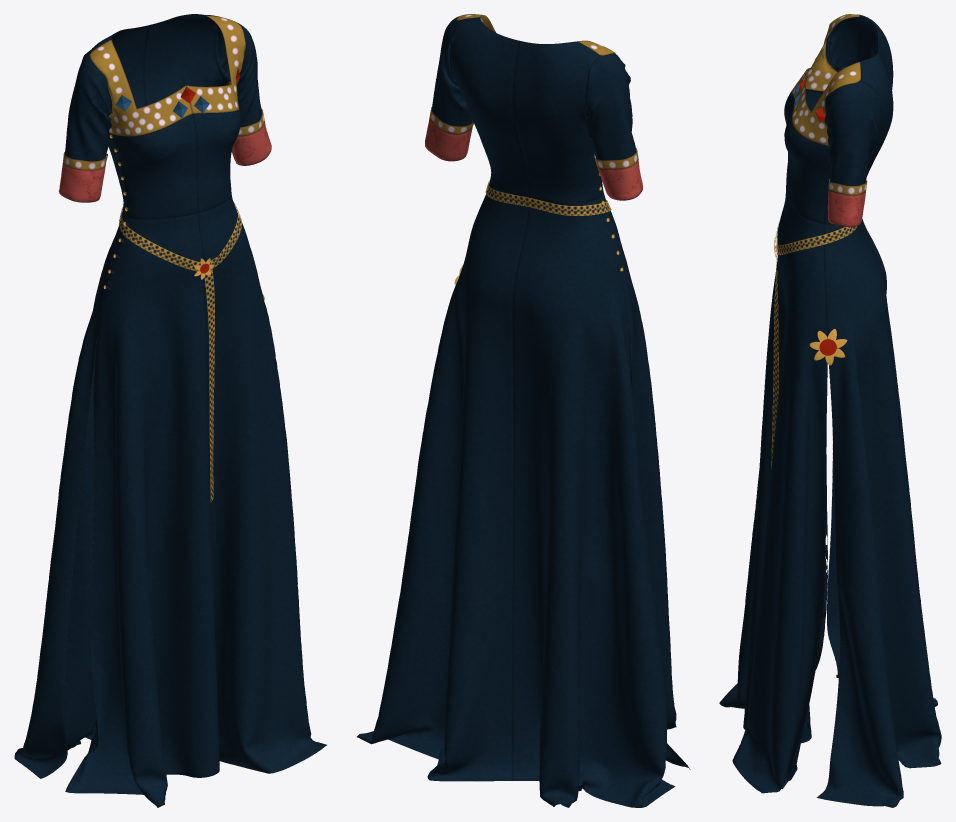
Rendered from black_blue_dres.glb.
3 renders of one model, left to right at view 1: azimuth 30°, elevation 25°; view 2: azimuth 150°, elevation 25°; view 3: azimuth 270°, elevation 25°, orthographic. The views are drawn at different scales.
Visible parts, largest first — view 1: defaultMaterial (×3); view 2: defaultMaterial (×2); view 3: defaultMaterial (×3).
Boxes of the visible parts, <box> form: defaultMaterial (×3): <box>14,14,326,807</box>; defaultMaterial (×2): <box>357,14,690,807</box>; defaultMaterial (×3): <box>719,14,941,807</box>.
Size of the model in its own units: 255 by 614 by 177.
Materials: 1 (1 with a texture image).
